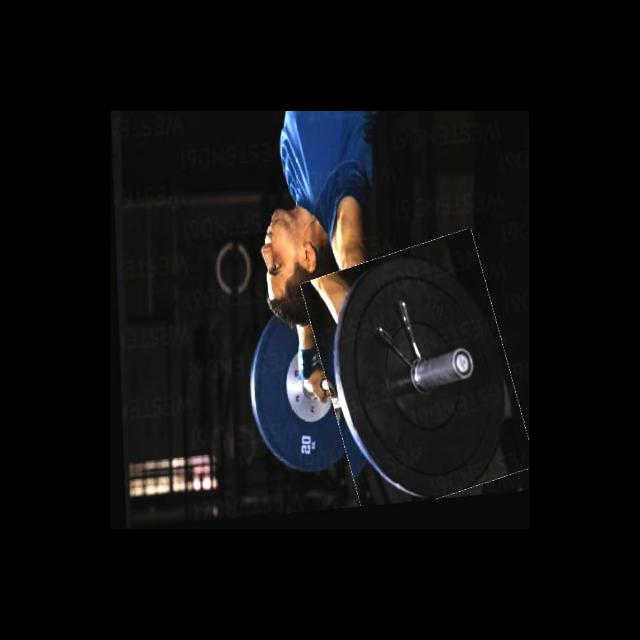barbell: (311, 241, 521, 514)
